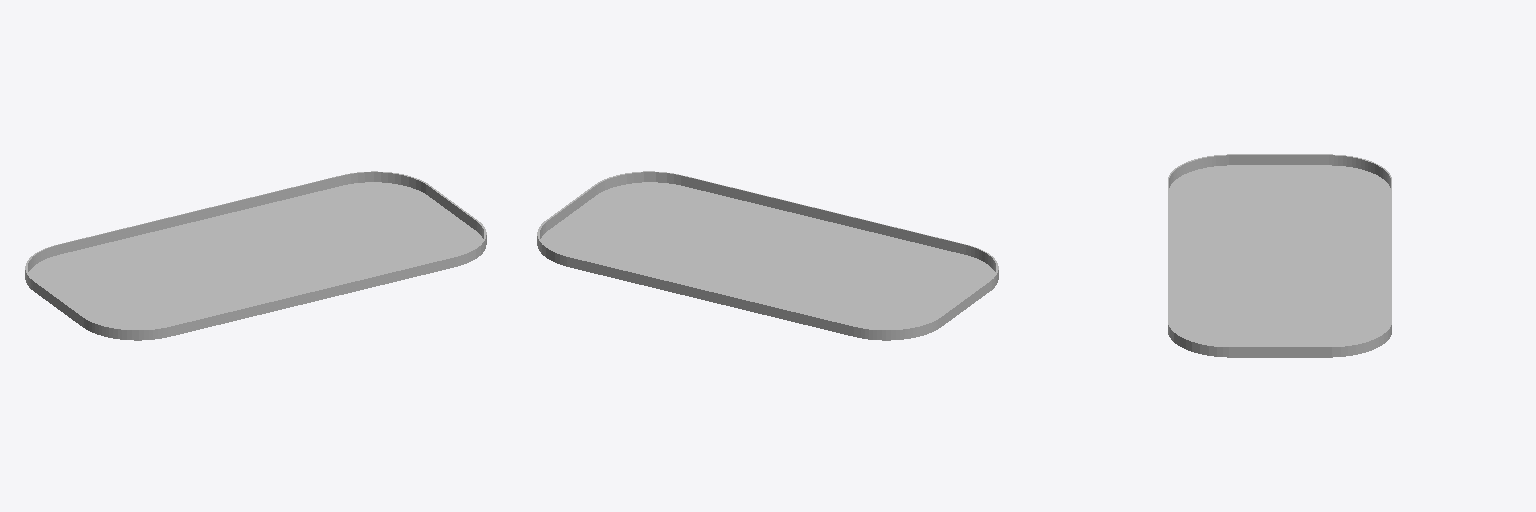
The model's file is Rink.obj.
The picture shows the model from 3 angles: view 1: azimuth 30°, elevation 25°; view 2: azimuth 150°, elevation 25°; view 3: azimuth 270°, elevation 25°; orthographic projection.
Parts seen in each view (by area): view 1: pPlane1; view 2: pPlane1; view 3: pPlane1.
Boxes of the visible parts, box(x1,y1,x2,y2) form: pPlane1: box(25, 171, 486, 340); pPlane1: box(537, 171, 998, 340); pPlane1: box(1168, 154, 1391, 357).
Size of the model in its own units: 61.59 by 1.5 by 30.29.